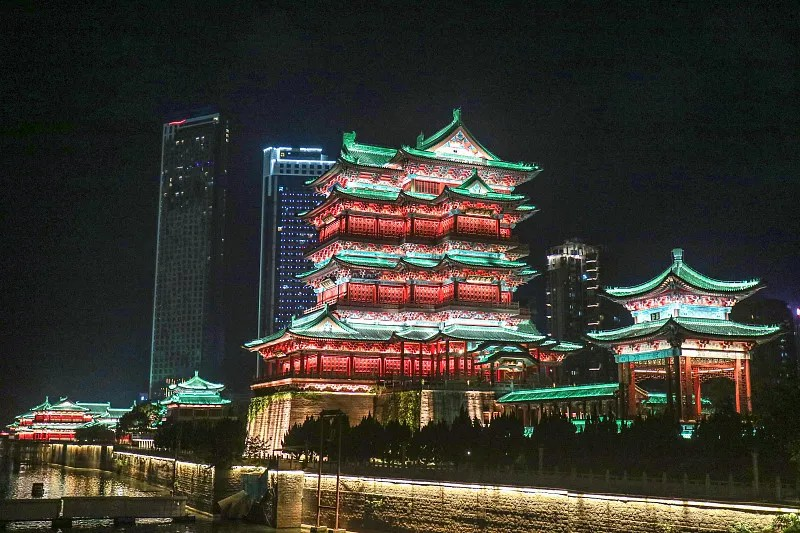Teng: (241, 106, 586, 387)
